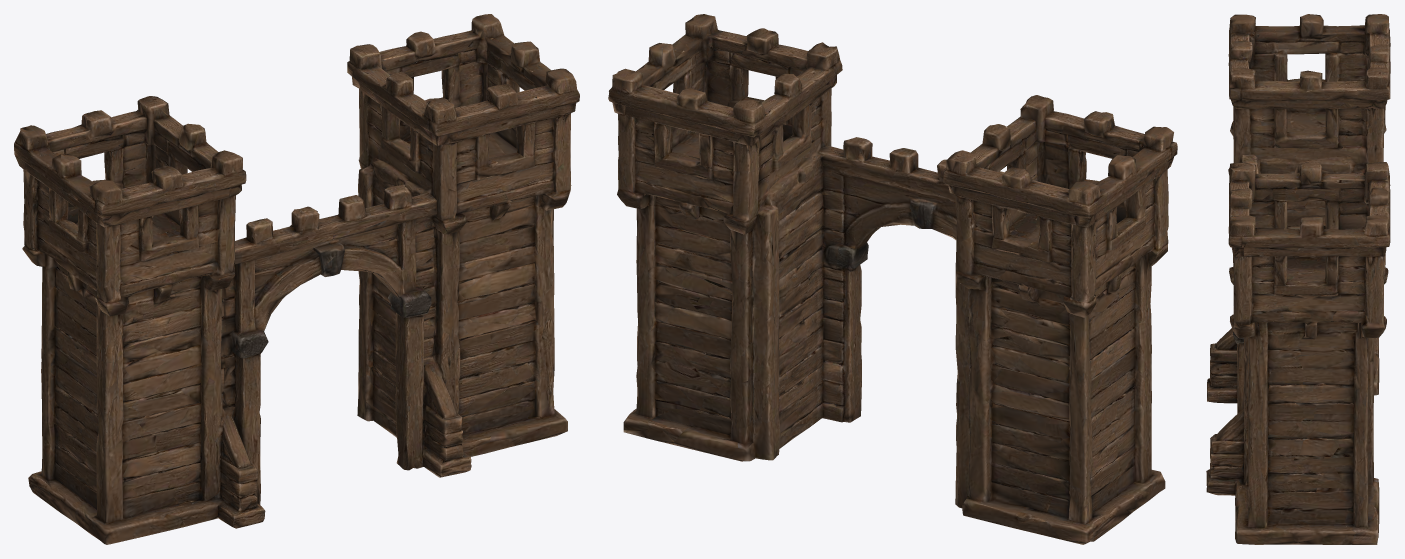
Rendered from gate_small.glb.
3 renders of one model, left to right at view 1: azimuth 30°, elevation 25°; view 2: azimuth 150°, elevation 25°; view 3: azimuth 270°, elevation 25°, orthographic. The views are drawn at different scales.
Size of the model in its own units: 1.9 by 1.36 by 0.6975.
1 material, 1 textured.
